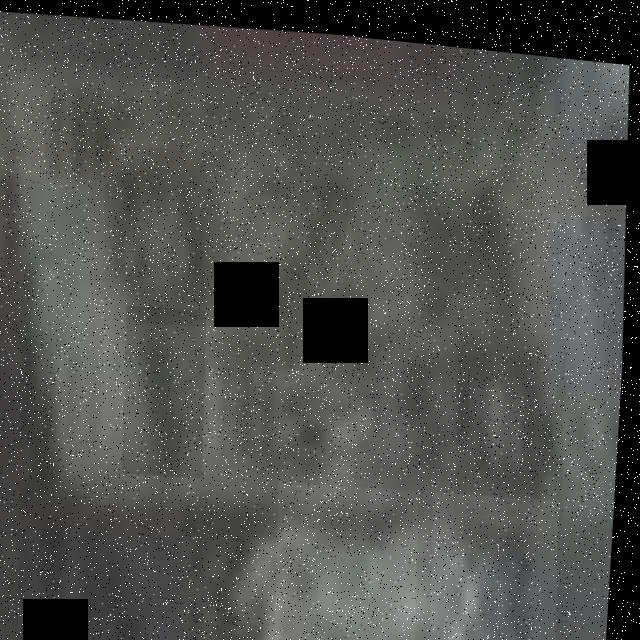0: (453, 313, 576, 511)
1: (121, 299, 215, 476)
6: (430, 478, 570, 640)
7: (275, 469, 430, 640)
D: (99, 137, 239, 327)
